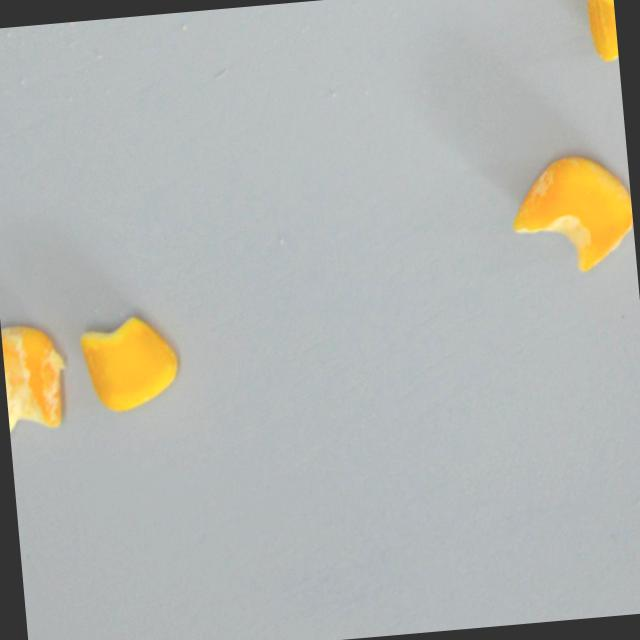no_canjicado: (580, 0, 619, 68)
pelicula: (502, 147, 637, 284), (0, 310, 74, 454)
